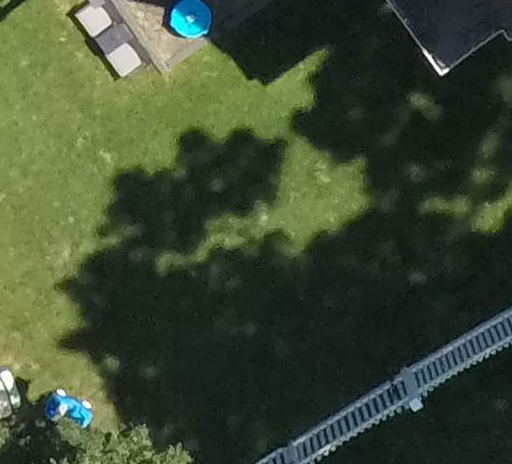toy: (33, 379, 97, 431)
